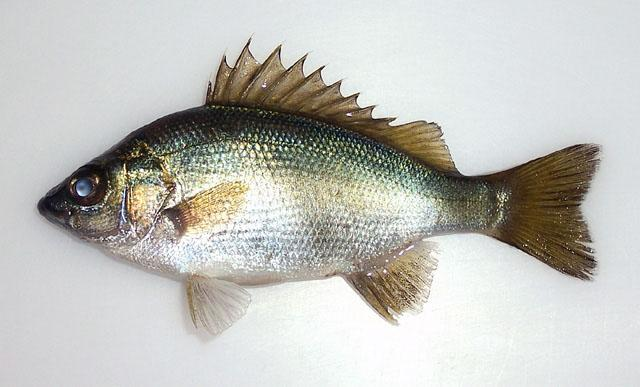Silver Perch: (37, 35, 601, 341)
